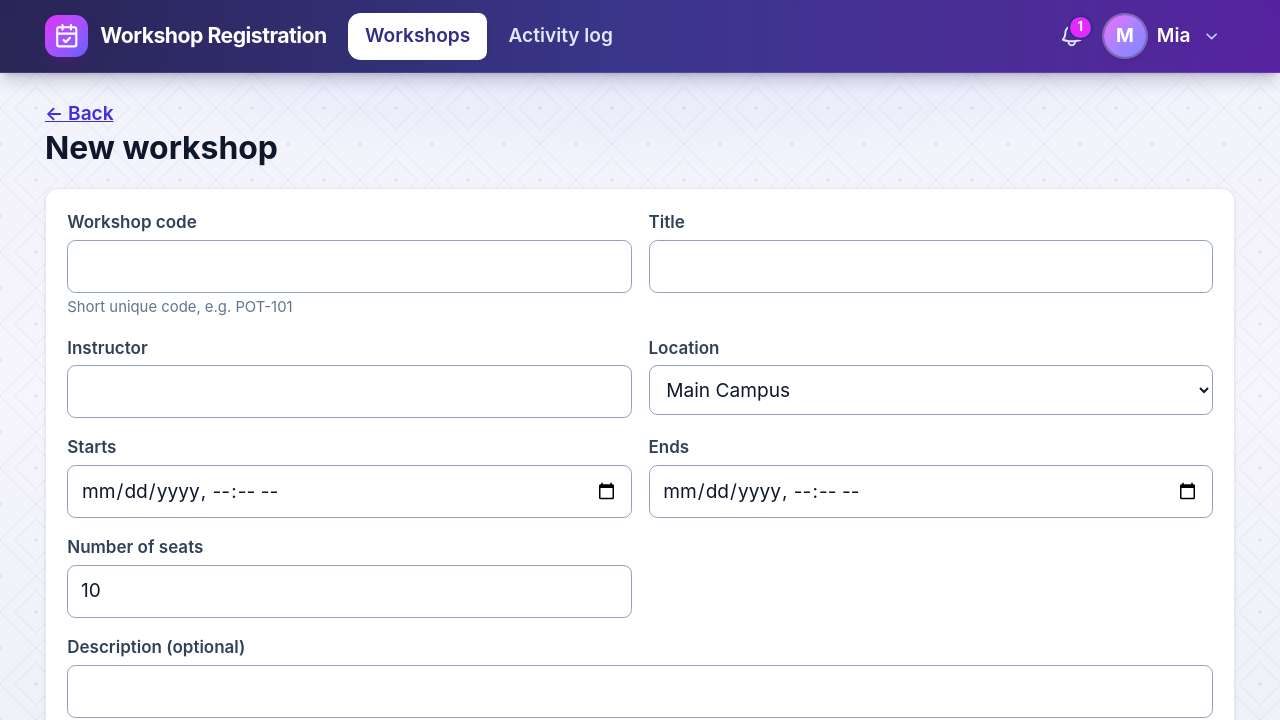
WorkshopForm (create) › posts a normalised payload and goes to the new workshop
expect the heading "New workshop" is shown: met, box [45,128,278,166]
In the field labelled "Workshop code Short unique code, e.g. POT-101": {"x": 349, "y": 266} [67,240,632,293], type "  KNT-1 "
In the field labelled "Title": {"x": 931, "y": 266} [648,240,1213,293], type " Knitting "
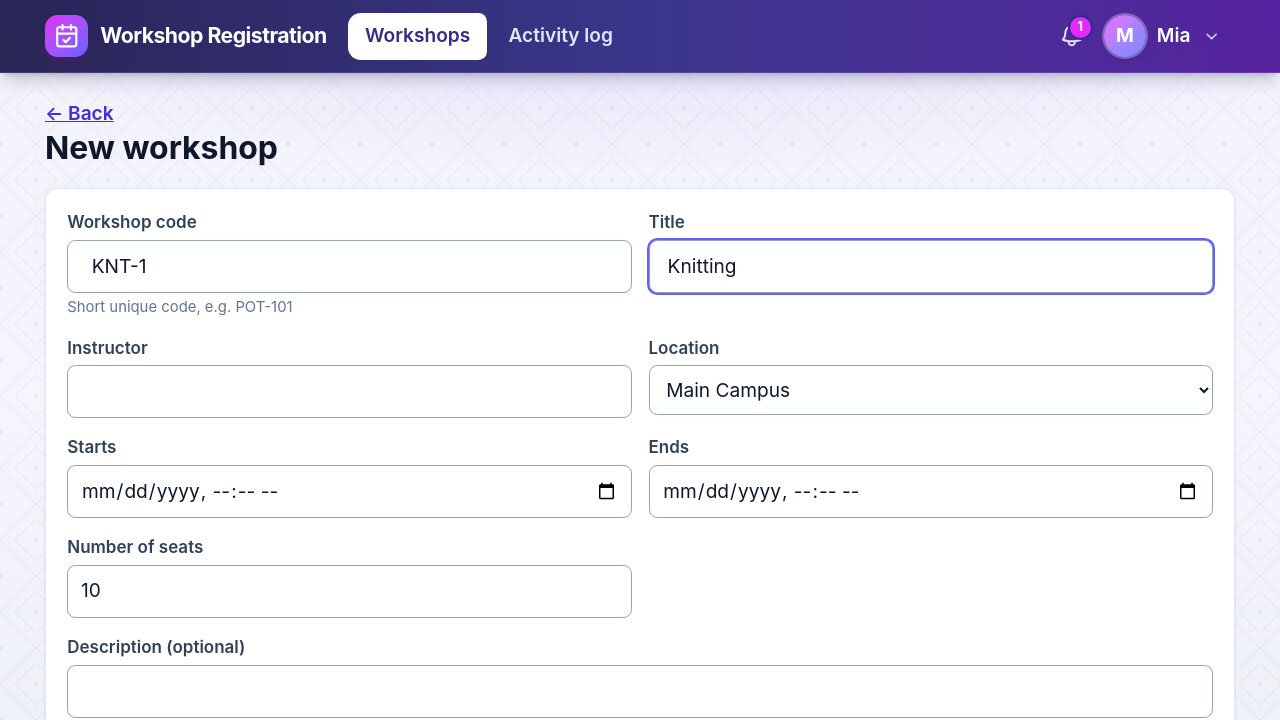
In the field labelled "Instructor": {"x": 349, "y": 392} [67,365,632,418], type "Kari"
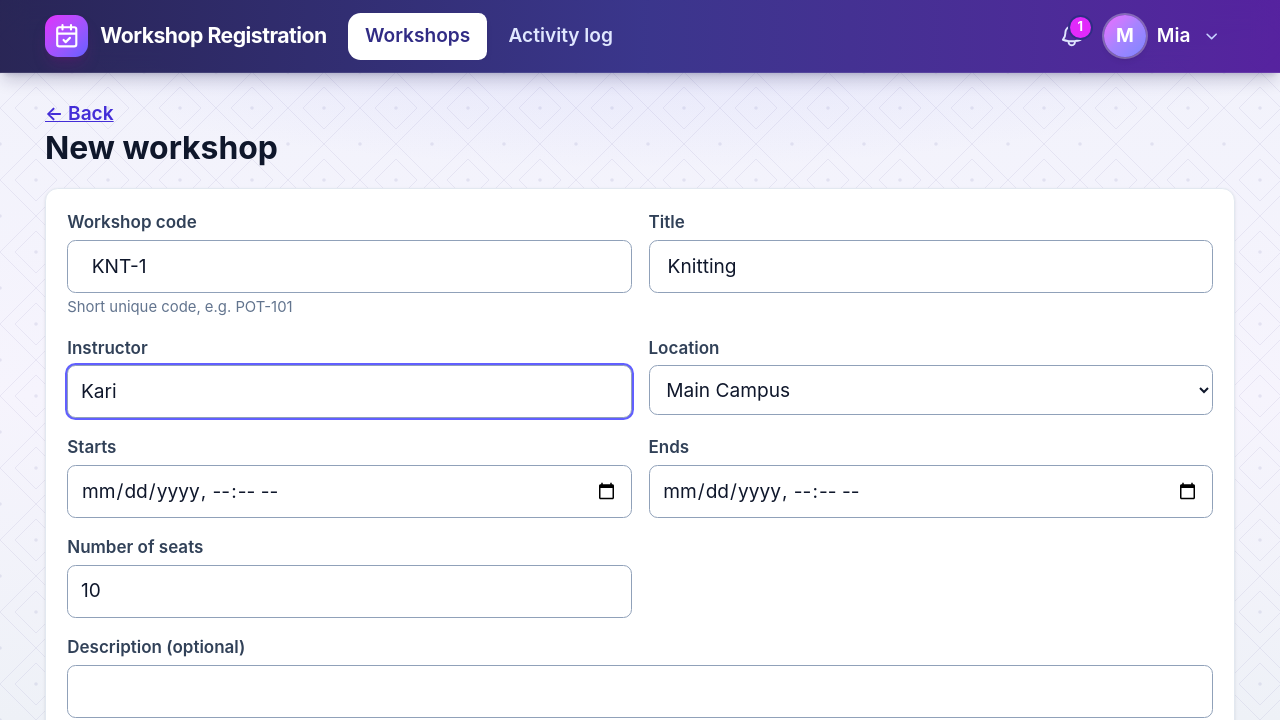
In the field labelled "Starts": {"x": 349, "y": 492} [67,465,632,518], type "2030-07-01T10:00"
In the field labelled "Ends": {"x": 931, "y": 492} [648,465,1213,518], type "2030-07-01T12:30"
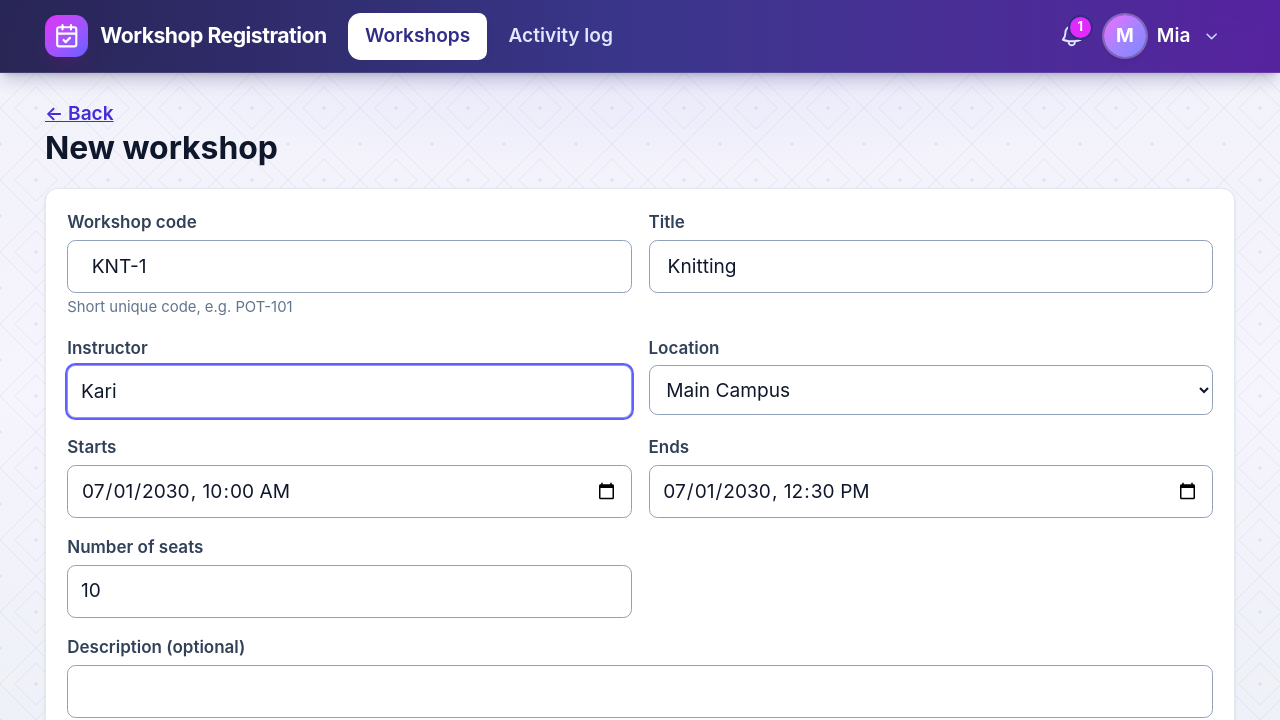
Select "Lakeside" in the dropdown labelled "Location": {"x": 931, "y": 390} [648,365,1213,415]
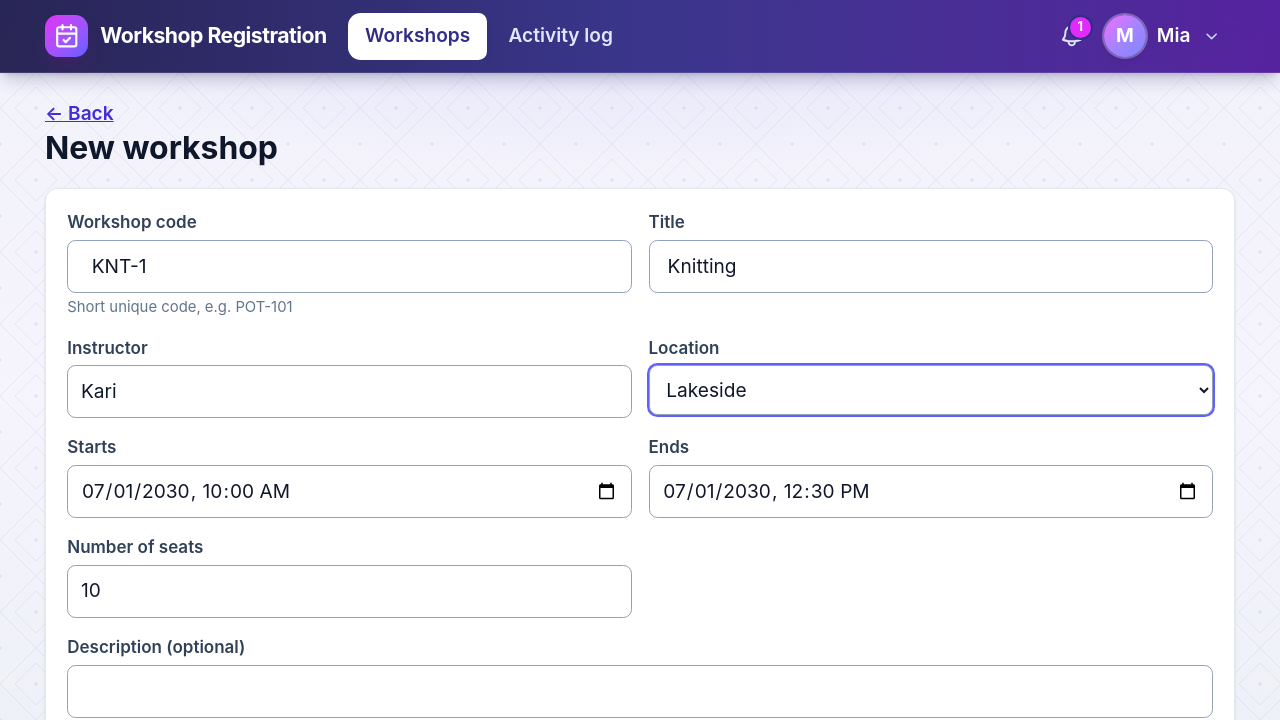
Replace the text in the number field labelled "Number of seats" with "12": {"x": 349, "y": 591} [67,565,632,618]
(page scrolled)
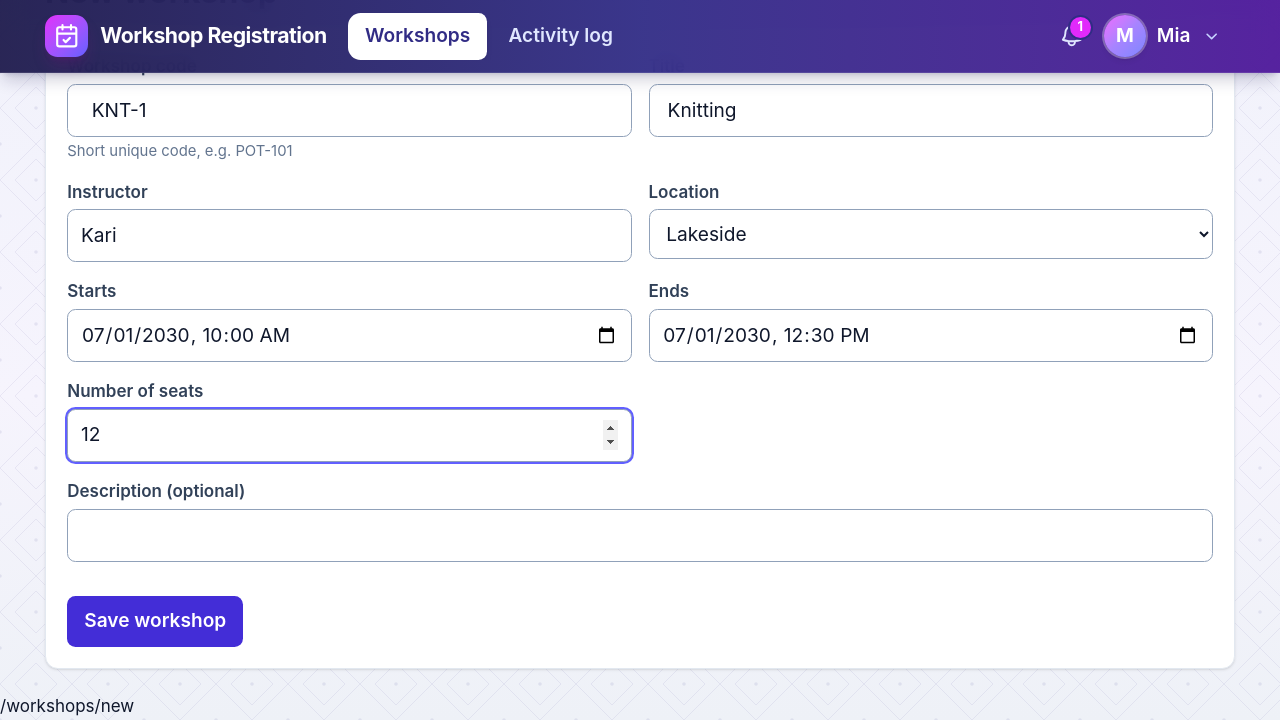
Click the button "Save workshop": {"x": 155, "y": 621} [67,596,243,646]
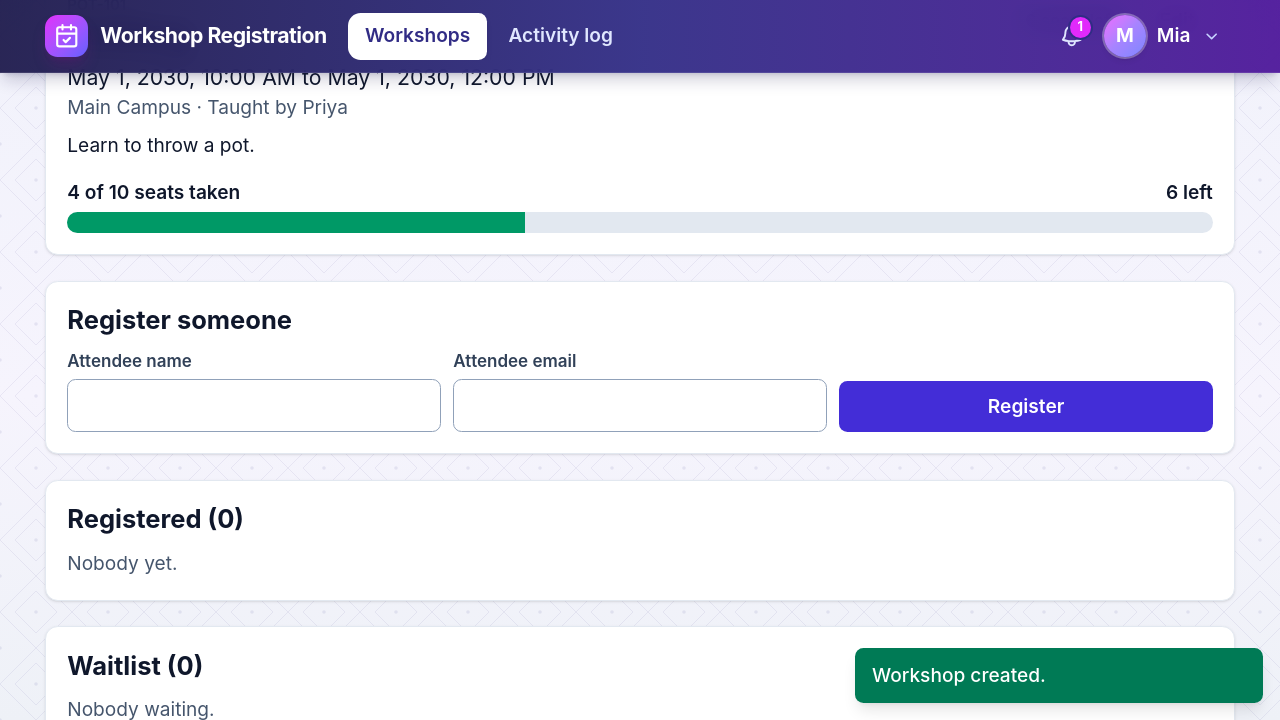
expect the text "Workshop created." is shown: met, box [855,648,1263,703]
